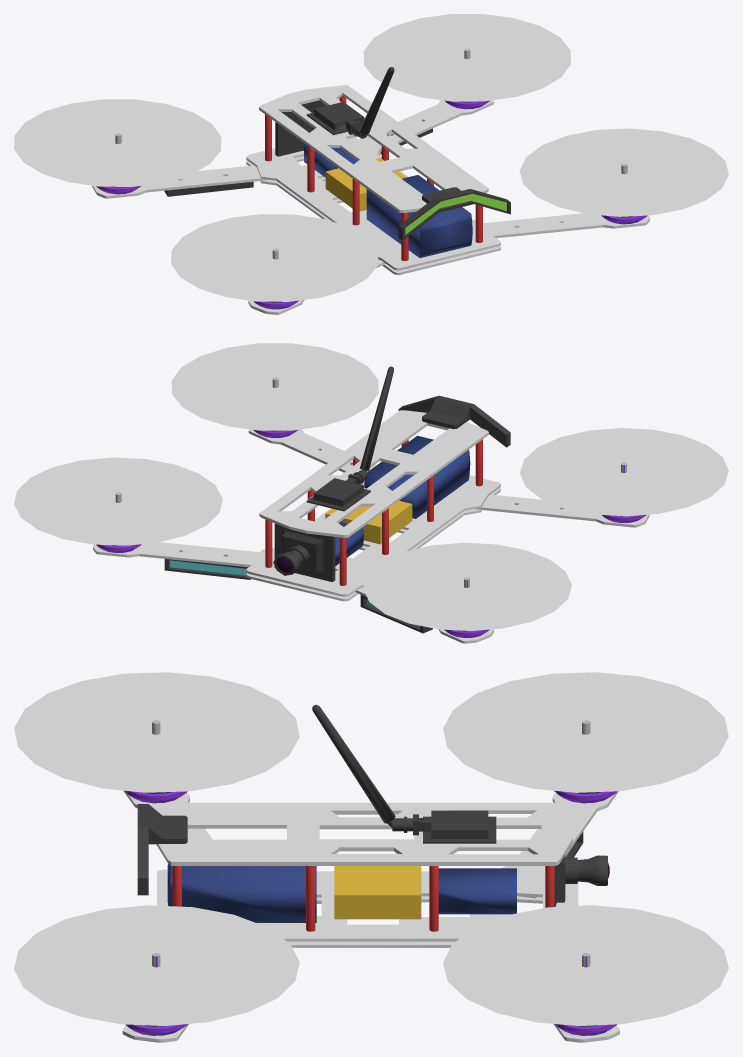
Rendered from Drone Race.fbx.
3 views of the same model, one above another, from view 1: azimuth 30°, elevation 25°; view 2: azimuth 150°, elevation 25°; view 3: azimuth 270°, elevation 25° (orthographic). The views are drawn at different scales.
Parts seen in each view (by area): view 1: Circle.005, Circle.003, Circle.004, Circle.002, Cube.004, Cube.003, Cube.002, Cube.001, Cube.009, Cube.005, Cylinder, Cube (+6 smaller); view 2: Circle.005, Circle.002, Circle.003, Circle.004, Cube.004, Cube.003, Cube.002, Cube.008, Cube.001, Cube.005, Cube.009, Cylinder (+6 smaller); view 3: Circle.004, Circle.003, Circle.005, Circle.002, Cube.004, Cube.002, Cube.001, Cube.006, Cube.005, Cube.007, Cube.003, Cube.009 (+5 smaller).
Boxes of the visible parts, x1,y1,x2,y2 form: Circle.005: [519, 128, 728, 216]; Circle.003: [14, 99, 221, 186]; Circle.004: [171, 214, 378, 301]; Circle.002: [363, 14, 570, 101]; Cube.004: [259, 85, 488, 212]; Cube.003: [92, 100, 649, 314]; Cube.002: [246, 137, 500, 270]; Cube.001: [366, 175, 472, 257]; Cube.009: [398, 187, 510, 240]; Cube.005: [306, 67, 394, 138]; Cylinder: [265, 95, 482, 260]; Cube: [246, 151, 500, 275]; Circle.005: [171, 343, 378, 430]; Circle.002: [14, 457, 222, 545]; Circle.003: [363, 542, 571, 630]; Circle.004: [520, 428, 728, 516]; Cube.004: [259, 410, 488, 537]; Cube.003: [93, 429, 649, 643]; Cube.002: [246, 475, 500, 596]; Cube.008: [273, 523, 335, 581]; Cube.001: [364, 435, 470, 518]; Cube.005: [306, 366, 393, 511]; Cube.009: [398, 395, 510, 447]; Cylinder: [265, 439, 482, 585]; Circle.004: [14, 672, 299, 792]; Circle.003: [443, 672, 728, 792]; Circle.005: [14, 905, 299, 1025]; Circle.002: [443, 905, 728, 1025]; Cube.004: [156, 802, 572, 865]; Cube.002: [157, 866, 578, 941]; Cube.001: [167, 864, 316, 922]; Cube.006: [334, 866, 421, 919]; Cube.005: [312, 704, 496, 843]; Cube.007: [438, 868, 516, 914]; Cube.003: [122, 790, 619, 1042]; Cube.009: [137, 804, 187, 895].
Size of the model in its own units: 1054 by 311 by 899.
